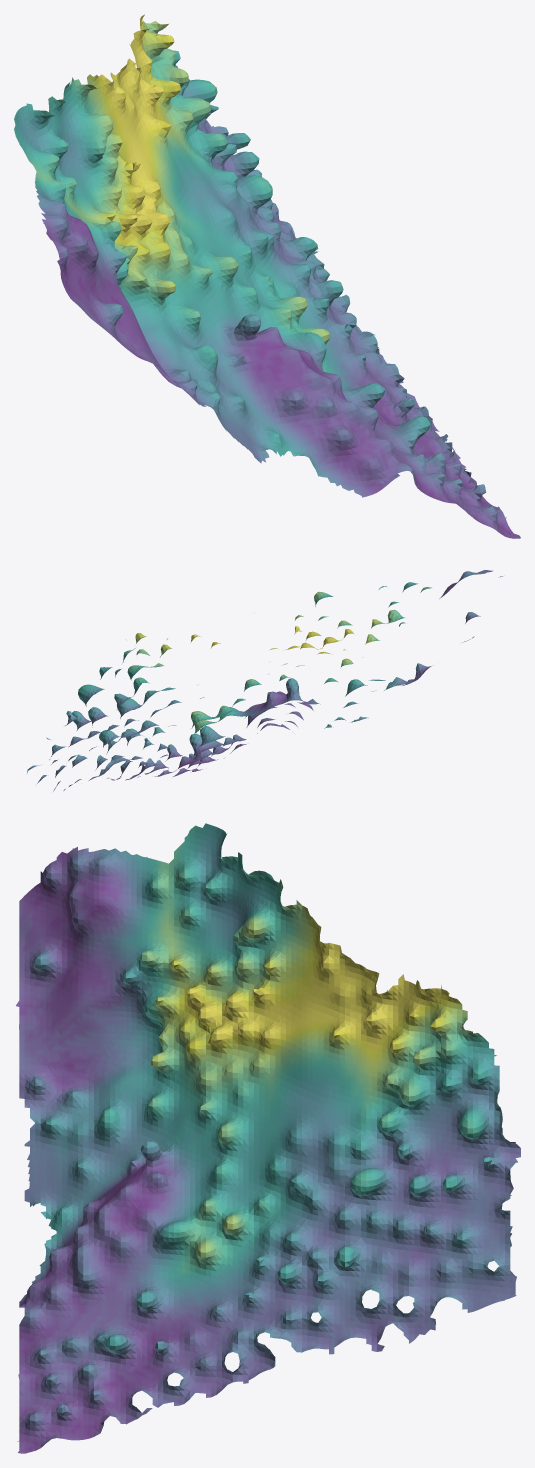
Rendered from crop1146_gap.glb.
The picture shows the model from 3 angles, top to bottom: view 1: azimuth 30°, elevation 25°; view 2: azimuth 150°, elevation 25°; view 3: azimuth 270°, elevation 25°; orthographic projection. The views are drawn at different scales.
Visible parts, largest first — view 1: world; view 2: world; view 3: world.
Boxes of the visible parts, x1,y1,x2,y2 form: world: [14, 14, 520, 538]; world: [27, 570, 502, 791]; world: [16, 823, 520, 1453].
Bounding box in the file's own units: 1525 × 1446 × 1520.
